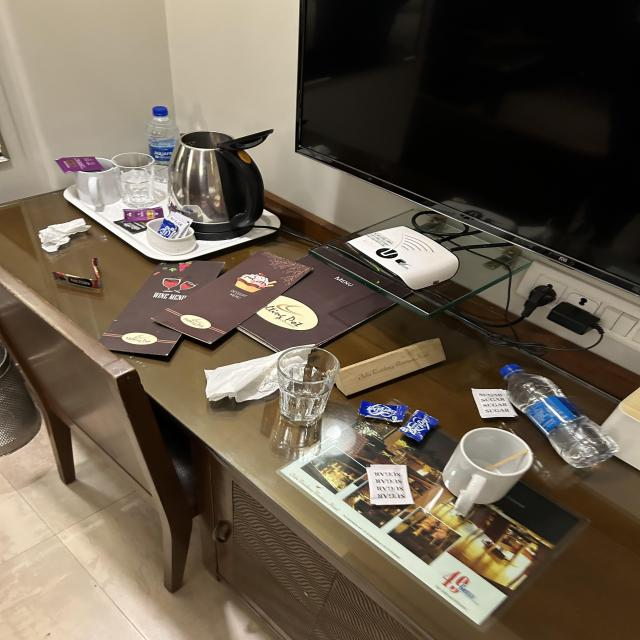mess: (0, 90, 640, 640)
